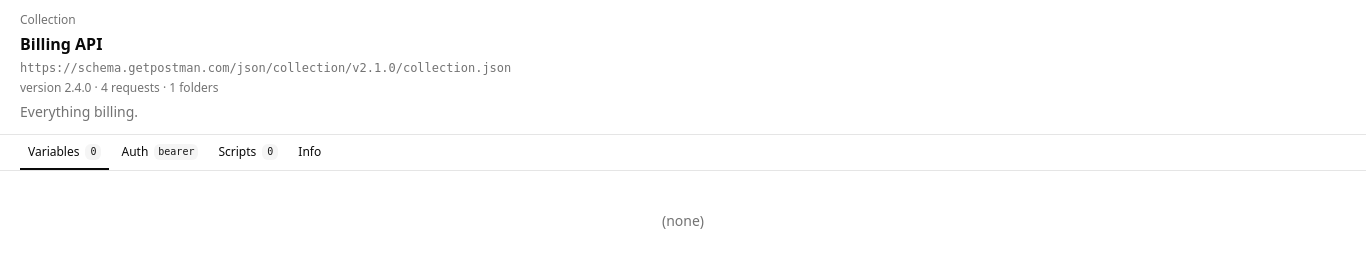
Scenario: CollectionDetail — auth and scripts (FR-039) › shows the collection auth with its type and masks credentials
Click the tab with test id "collection-tab-auth": (160, 152) [114,135,206,170]
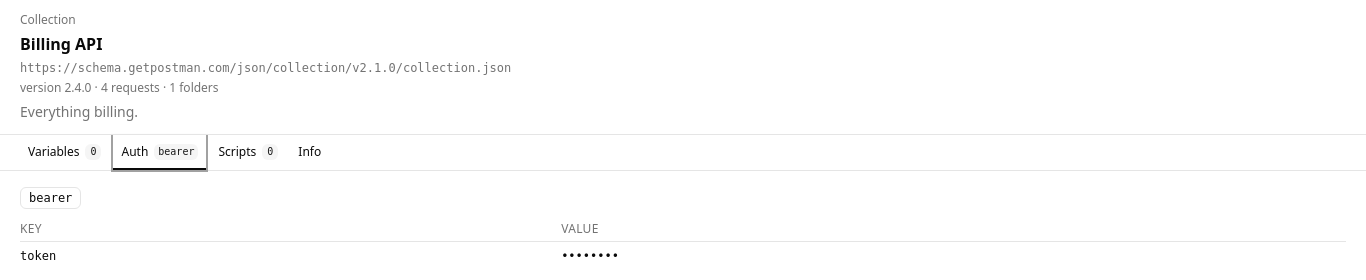
expect the text with test id "auth-type" reads "bearer": met, box [29,191,72,205]
expect the text "••••••••" is shown: met, box [561,249,619,263]
